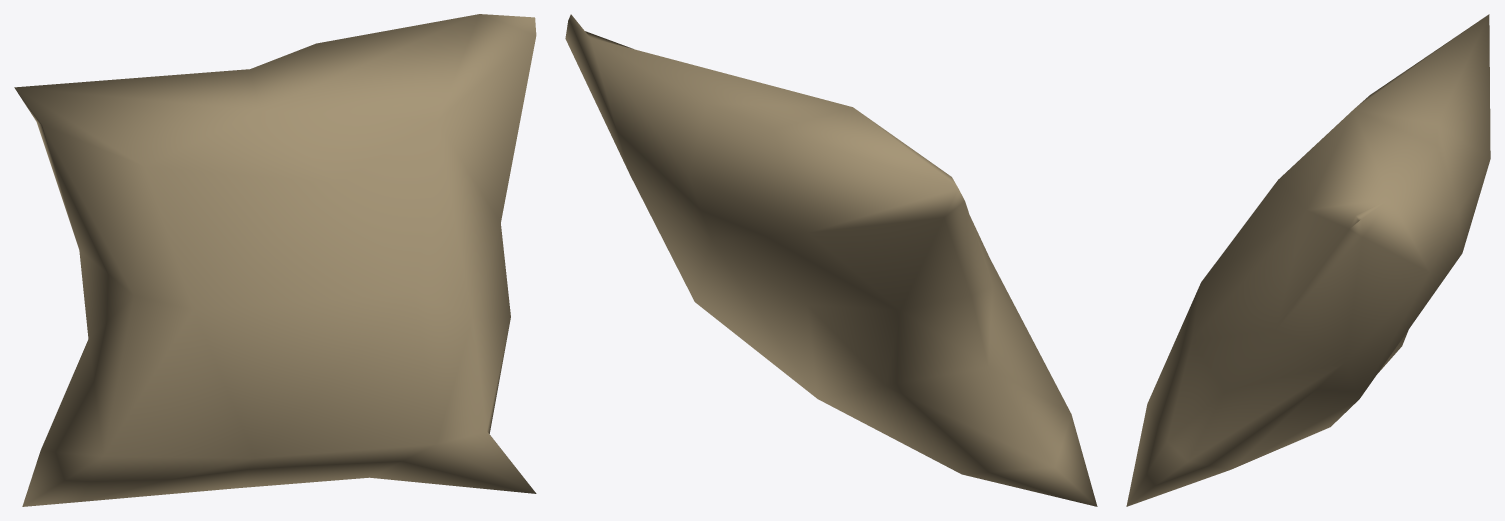
Rendered from cushion.fbx.
The picture shows the model from 3 angles, left to right: view 1: azimuth 30°, elevation 25°; view 2: azimuth 150°, elevation 25°; view 3: azimuth 270°, elevation 25°; orthographic projection. The views are drawn at different scales.
Parts seen in each view (by area): view 1: cushion; view 2: cushion; view 3: cushion.
Boxes of the visible parts, bbox=[...] form: cushion: bbox=[14, 14, 536, 506]; cushion: bbox=[565, 14, 1097, 506]; cushion: bbox=[1126, 14, 1490, 506].
Size of the model in its own units: 38.09 by 25.44 by 24.15.
